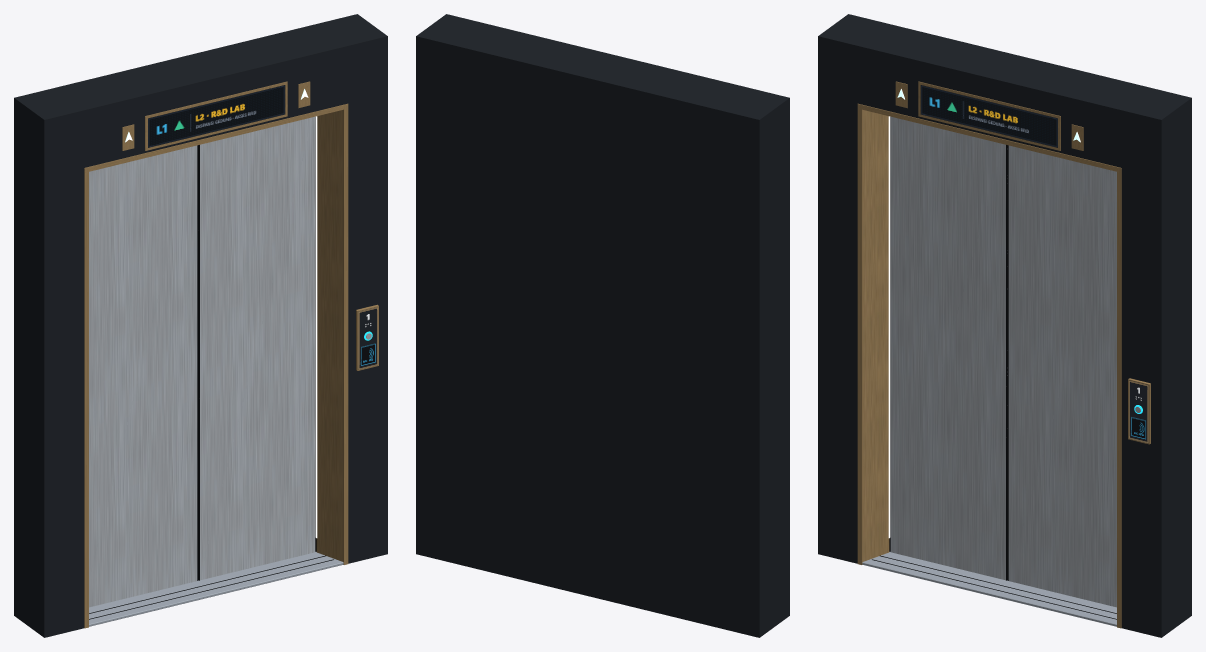
The model's file is Office_Access_Elevator_Portal.glb.
The picture shows the model from 3 angles, left to right: view 1: azimuth 30°, elevation 25°; view 2: azimuth 150°, elevation 25°; view 3: azimuth 330°, elevation 25°; orthographic projection.
Parts seen in each view (by area): view 1: Outer_Gunmetal_Surround, Elevator_Door_Leaf_R, Elevator_Door_Leaf_L, Splayed_Champagne_Bronze_Jambs, Extruded_Alu_Threshold_Sill, Transom_Digital_Indicator, Sill_Grooves_And_Astragal, Jamb_Warm_LED_Cove_Strips, Transom_Bronze_Bezel, Call_Station_Faceplate; view 2: Outer_Gunmetal_Surround; view 3: Outer_Gunmetal_Surround, Elevator_Door_Leaf_L, Elevator_Door_Leaf_R, Splayed_Champagne_Bronze_Jambs, Extruded_Alu_Threshold_Sill, Transom_Digital_Indicator, Sill_Grooves_And_Astragal, Jamb_Warm_LED_Cove_Strips, Transom_Bronze_Bezel, Call_Station_Faceplate.
Boxes of the visible parts, x1,y1,x2,y2 form: Outer_Gunmetal_Surround: [14, 14, 387, 637]; Elevator_Door_Leaf_R: [200, 116, 315, 580]; Elevator_Door_Leaf_L: [89, 145, 197, 607]; Splayed_Champagne_Bronze_Jambs: [84, 103, 348, 628]; Extruded_Alu_Threshold_Sill: [89, 552, 343, 626]; Transom_Digital_Indicator: [148, 85, 285, 147]; Sill_Grooves_And_Astragal: [89, 117, 333, 619]; Jamb_Warm_LED_Cove_Strips: [315, 116, 317, 538]; Transom_Bronze_Bezel: [145, 81, 287, 150]; Call_Station_Faceplate: [358, 307, 377, 369]; Outer_Gunmetal_Surround: [416, 14, 789, 637]; Outer_Gunmetal_Surround: [818, 14, 1191, 637]; Elevator_Door_Leaf_L: [890, 116, 1007, 580]; Elevator_Door_Leaf_R: [1008, 145, 1116, 607]; Splayed_Champagne_Bronze_Jambs: [857, 103, 1121, 628]; Extruded_Alu_Threshold_Sill: [862, 552, 1116, 626]; Transom_Digital_Indicator: [920, 85, 1057, 147]; Sill_Grooves_And_Astragal: [872, 117, 1116, 619]; Jamb_Warm_LED_Cove_Strips: [888, 116, 890, 538]; Transom_Bronze_Bezel: [918, 81, 1060, 150]; Call_Station_Faceplate: [1129, 380, 1148, 443].
Bounding box in the file's own units: 1.7 × 2.45 × 0.28.
10 materials, 4 textured.
